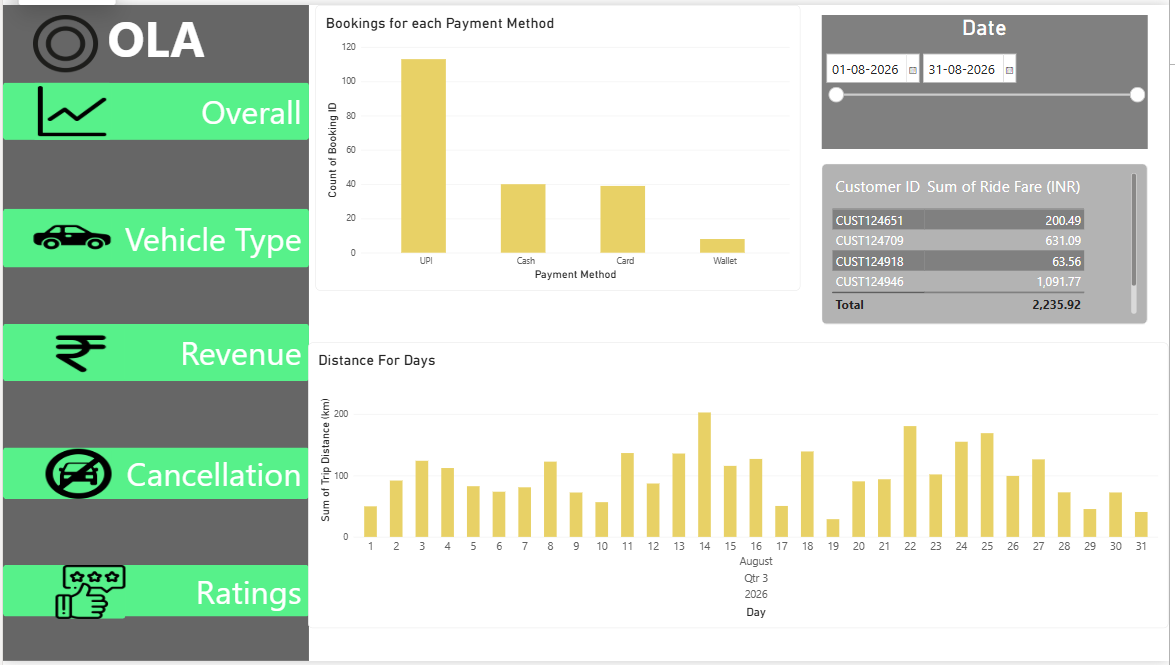

Layout of this report page (visuals, bound fields, positions):
{"tool":"powerbi","page":{"name":"Revenue","canvas":[1920,1080],"ordinal":2},"visuals":[{"type":"shape","box":[0,0,503.8,1080.1],"z":0},{"type":"actionButton","box":[0,127,503.8,94.7],"z":1000},{"type":"actionButton","box":[0,334.5,503.8,96.7],"z":2000},{"type":"actionButton","box":[0,523.9,503.8,94.7],"z":3000},{"type":"actionButton","box":[0,729.5,503.8,84.6],"z":4000},{"type":"actionButton","box":[0,922.9,503.8,84.6],"z":5000},{"type":"actionButton","box":[70.5,731.5,108.8,82.6],"z":6000},{"type":"actionButton","box":[86.7,922.9,114.9,88.7],"z":7000},{"type":"actionButton","box":[50.4,346.6,129,84.6],"z":8000},{"type":"actionButton","box":[50.4,127,129,94.7],"z":9000},{"type":"actionButton","box":[50.4,528,151.1,90.7],"z":10000},{"type":"actionButton","box":[50.4,16.1,106.8,94.7],"z":11000},{"type":"columnChart","title":"Bookings for each Payment Method","fields":{"Category":["Booking Data.Payment Method"],"Y":["CountNonNull(Booking Data.Booking ID)"]},"box":[513.9,0,798.1,470.5],"z":11001},{"type":"columnChart","title":"Distance For Days","fields":{"Category":["Booking Data.Date.Variation.Date Hierarchy.Year","Booking Data.Date.Variation.Date Hierarchy.Quarter","Booking Data.Date.Variation.Date Hierarchy.Month","Booking Data.Date.Variation.Date Hierarchy.Day"],"Y":["Sum(Booking Data.Trip Distance (km))"]},"box":[503.1,555.6,1417,470.5],"z":11002},{"type":"slicer","title":"Date","fields":{"Values":["Booking Data.Date"]},"box":[1348.2,16.3,535.7,219],"z":11003},{"type":"tableEx","fields":{"Values":["Booking Data.Customer ID","Sum(Booking Data.Ride Fare (INR))"]},"box":[1348.2,260.6,535.7,264.2],"z":11004}]}

Visuals, with their boxes in screenshot pixels (x1, y1, x2, y2), scaled from the page's 1920x1080 canvas onto the 1175x665 screenshot:
shape: <bbox>0, 0, 308, 664</bbox>
actionButton: <bbox>0, 78, 308, 137</bbox>
actionButton: <bbox>0, 206, 308, 266</bbox>
actionButton: <bbox>0, 323, 308, 381</bbox>
actionButton: <bbox>0, 449, 308, 501</bbox>
actionButton: <bbox>0, 568, 308, 620</bbox>
actionButton: <bbox>43, 450, 110, 501</bbox>
actionButton: <bbox>53, 568, 123, 623</bbox>
actionButton: <bbox>31, 213, 110, 266</bbox>
actionButton: <bbox>31, 78, 110, 137</bbox>
actionButton: <bbox>31, 325, 123, 381</bbox>
actionButton: <bbox>31, 10, 96, 68</bbox>
"Bookings for each Payment Method" columnChart: <bbox>314, 0, 803, 290</bbox>
"Distance For Days" columnChart: <bbox>308, 342, 1174, 632</bbox>
"Date" slicer: <bbox>825, 10, 1153, 145</bbox>
tableEx - Booking Data.Customer ID x Sum(Booking Data.Ride Fare (INR)): <bbox>825, 160, 1153, 323</bbox>
